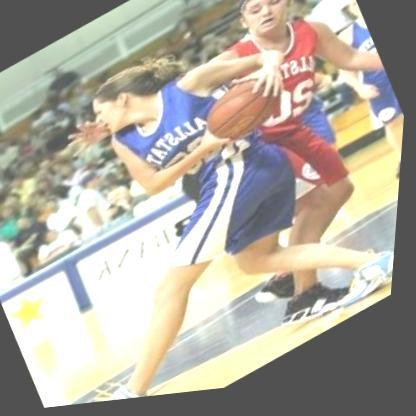basketball: (197, 72, 290, 160)
